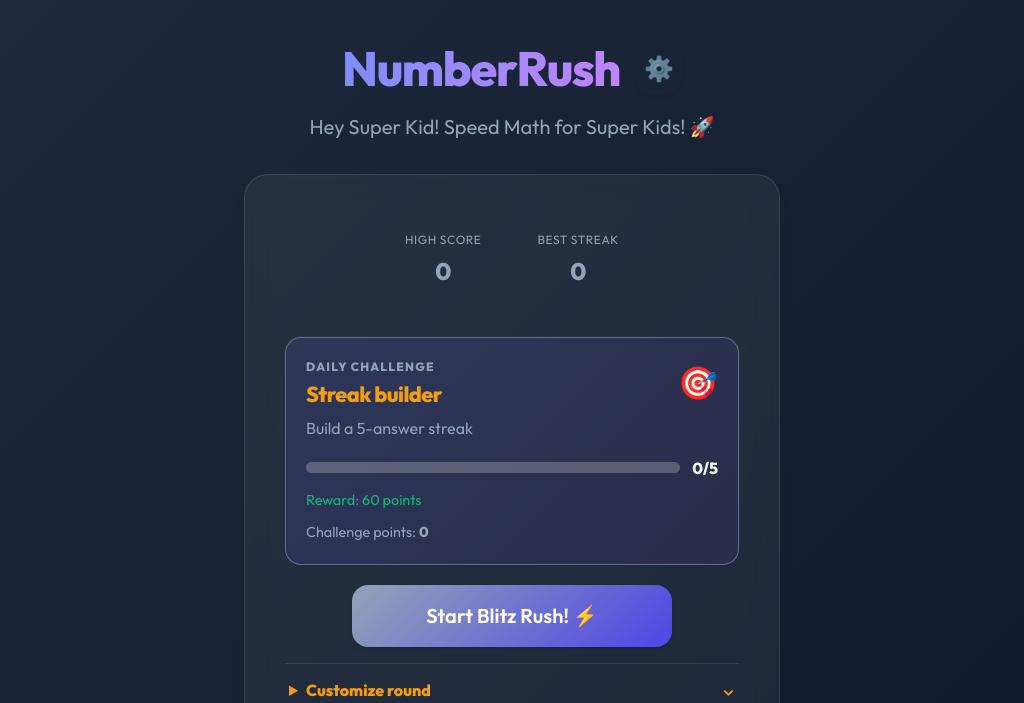
App keyboard gameplay › renders correct feedback inline without covering the keypad
This screenshot has width=1024, height=703.
Click the button "Start Blitz Rush! ⚡" at (512, 616), box left=352, top=585, right=672, bottom=647
(page scrolled)
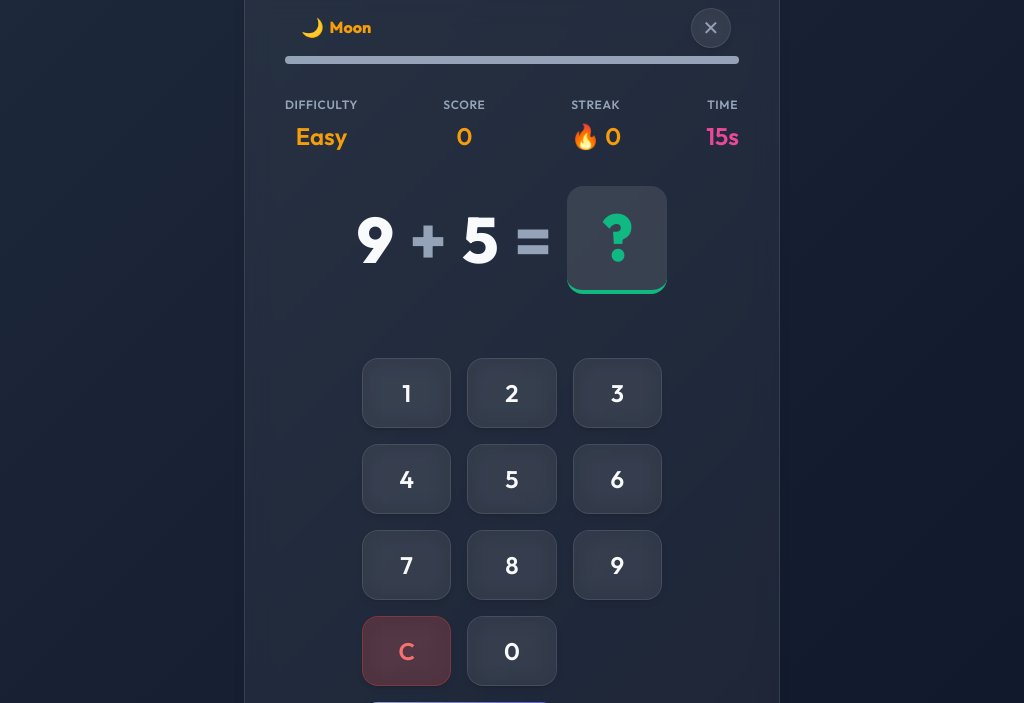
Press 1
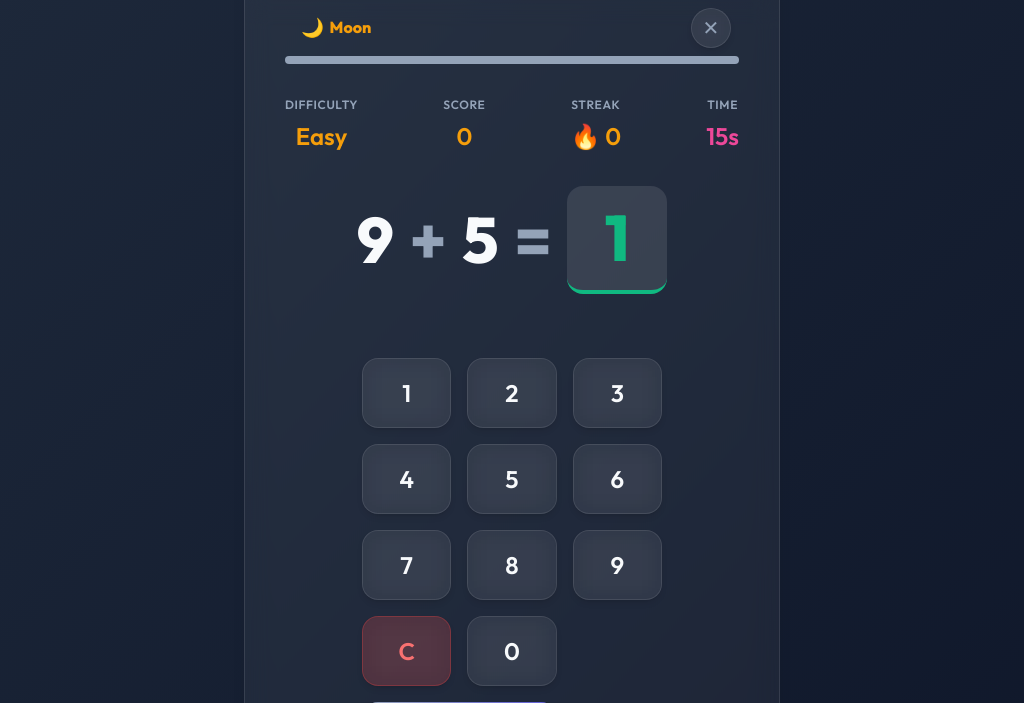
Press 4
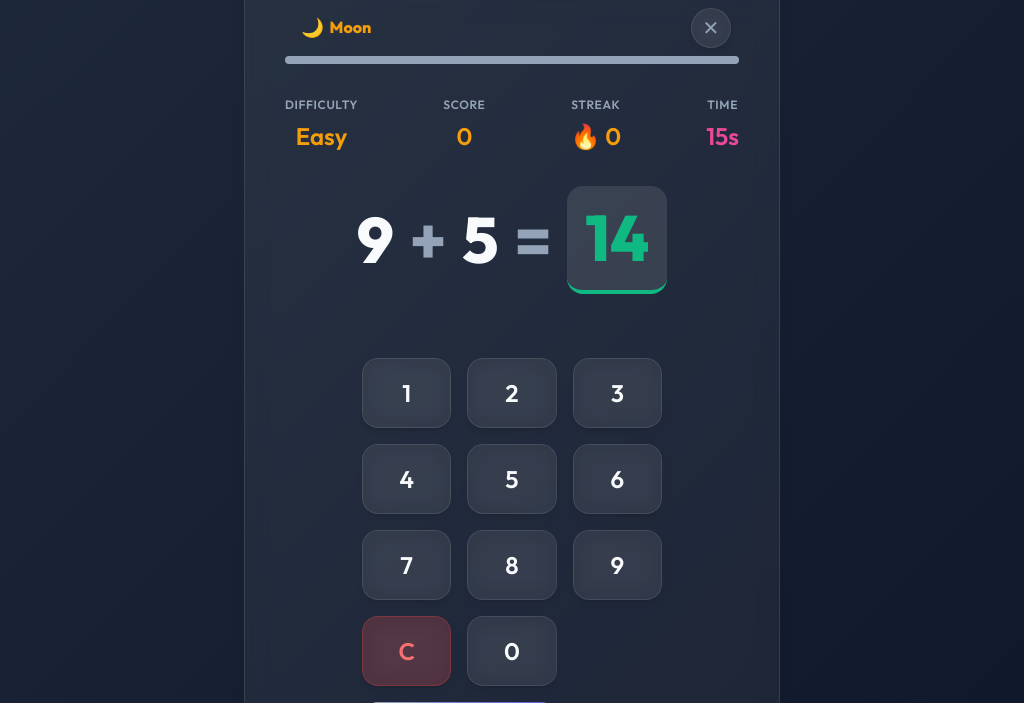
Press Enter
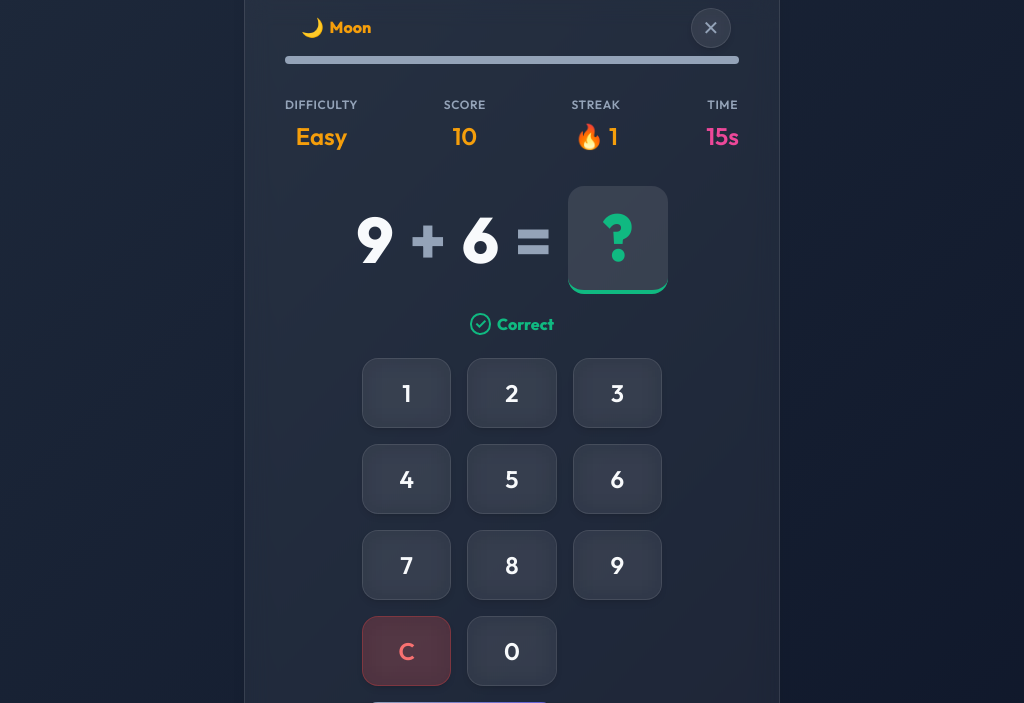
Expected: the text "Correct" is shown, left=497, top=314, right=554, bottom=334
